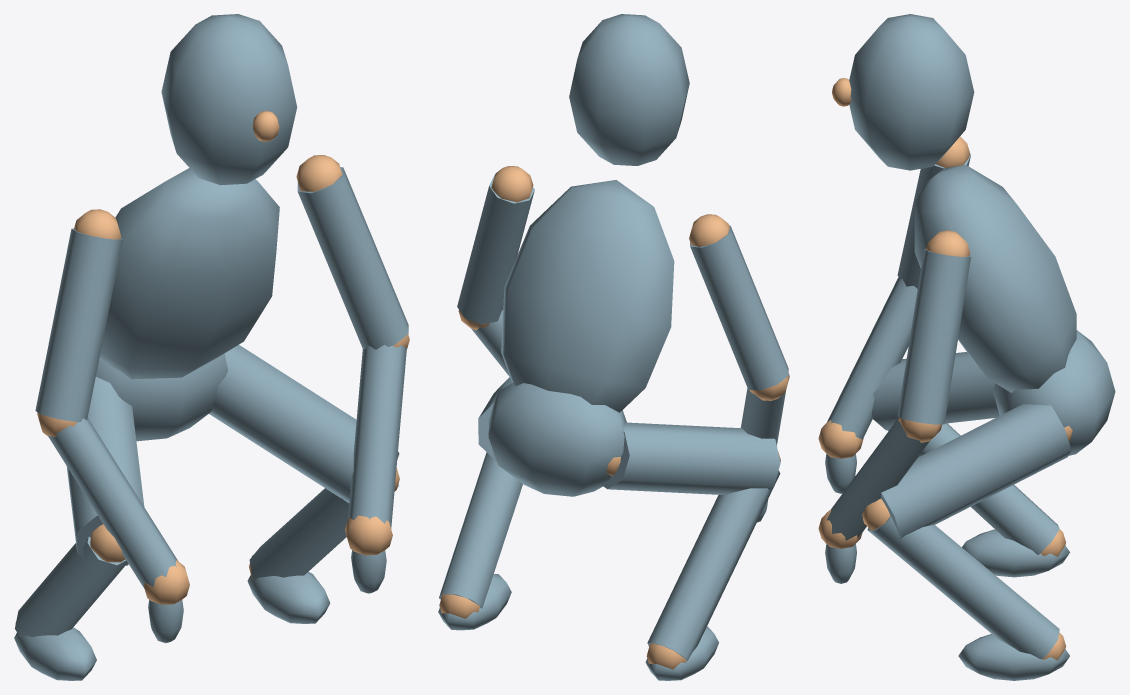
The model's file is pose-crouching-3d.glb.
3 views of the same model, side by side, from view 1: azimuth 30°, elevation 25°; view 2: azimuth 150°, elevation 25°; view 3: azimuth 270°, elevation 25° (orthographic). The views are drawn at different scales.
Visible parts, largest first — view 1: rib-cage, head, right-thigh, left-upper-arm, right-upper-arm, right-forearm, left-forearm, pelvis, left-shin, right-shin, left-thigh, foot-ra (+9 smaller); view 2: rib-cage, head, pelvis, left-thigh, left-shin, left-upper-arm, right-shin, right-upper-arm, left-forearm, foot-ra, foot-la, joint-rs (+5 smaller); view 3: rib-cage, head, right-thigh, right-shin, right-upper-arm, pelvis, left-forearm, right-forearm, left-thigh, left-shin, foot-ra, foot-la (+10 smaller).
Part boxes in pixels (left/top/right/bottom): rib-cage: left=99, top=168, right=279, bottom=379; head: left=161, top=14, right=297, bottom=185; right-thigh: left=209, top=345, right=399, bottom=502; left-upper-arm: left=35, top=228, right=122, bottom=422; right-upper-arm: left=297, top=167, right=408, bottom=349; right-forearm: left=348, top=344, right=406, bottom=528; left-forearm: left=48, top=418, right=178, bottom=588; pelvis: left=96, top=353, right=227, bottom=441; left-shin: left=15, top=537, right=127, bottom=637; right-shin: left=249, top=484, right=398, bottom=580; left-thigh: left=66, top=377, right=144, bottom=565; foot-ra: left=247, top=571, right=330, bottom=623; rib-cage: left=501, top=180, right=674, bottom=412; head: left=569, top=14, right=689, bottom=165; pelvis: left=488, top=382, right=626, bottom=496; left-thigh: left=601, top=422, right=780, bottom=495; left-shin: left=647, top=470, right=780, bottom=661; left-upper-arm: left=690, top=225, right=788, bottom=390; right-shin: left=439, top=452, right=522, bottom=608; right-upper-arm: left=457, top=175, right=534, bottom=324; left-forearm: left=741, top=388, right=785, bottom=445; foot-ra: left=438, top=574, right=511, bottom=630; foot-la: left=645, top=626, right=718, bottom=680; joint-rs: left=491, top=166, right=533, bottom=202; rib-cage: left=914, top=165, right=1076, bottom=392; head: left=849, top=14, right=974, bottom=170; right-thigh: left=881, top=404, right=1071, bottom=538; right-shin: left=867, top=516, right=1059, bottom=659; right-upper-arm: left=897, top=249, right=970, bottom=424; pelvis: left=993, top=330, right=1115, bottom=455; left-forearm: left=827, top=277, right=917, bottom=439; right-forearm: left=827, top=417, right=929, bottom=540; left-thigh: left=871, top=352, right=999, bottom=430; left-shin: left=887, top=423, right=1059, bottom=554; foot-ra: left=958, top=634, right=1069, bottom=680; foot-la: left=962, top=529, right=1069, bottom=577.
Bounding box in the file's own units: 0.725 × 1.26 × 0.5575.
